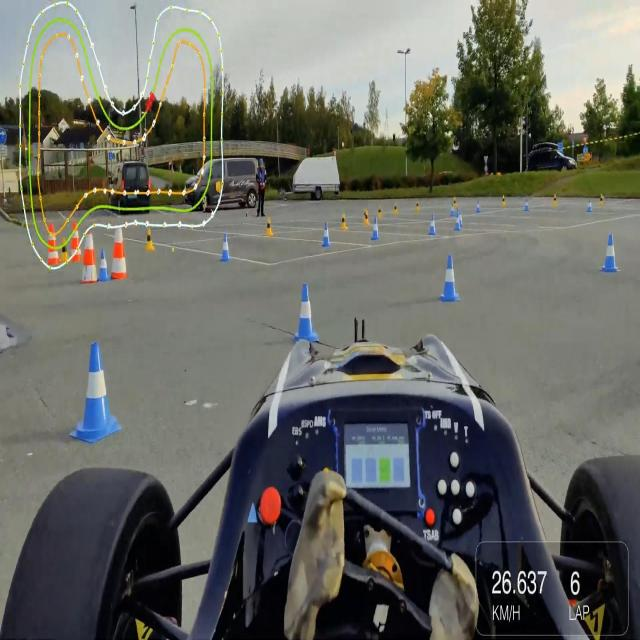blue_cone: (63, 339, 126, 446), (290, 282, 322, 345), (438, 252, 461, 304), (599, 230, 621, 274), (97, 248, 111, 283), (218, 233, 232, 264), (319, 218, 332, 251), (370, 215, 380, 241), (428, 212, 437, 236), (453, 210, 461, 233), (523, 196, 530, 213), (586, 198, 593, 214), (475, 199, 482, 214), (458, 210, 464, 227), (449, 202, 455, 216)
large_orange_cone: (110, 220, 129, 282), (80, 230, 99, 286), (45, 221, 60, 268), (70, 218, 84, 265)
yellow_cone: (143, 224, 157, 253), (59, 235, 69, 264), (264, 216, 274, 239), (338, 211, 348, 232), (376, 204, 384, 220), (598, 192, 605, 208), (499, 193, 506, 208), (451, 196, 458, 210), (392, 201, 399, 215), (552, 192, 558, 208), (362, 207, 368, 223), (364, 212, 370, 226), (414, 200, 420, 213)
